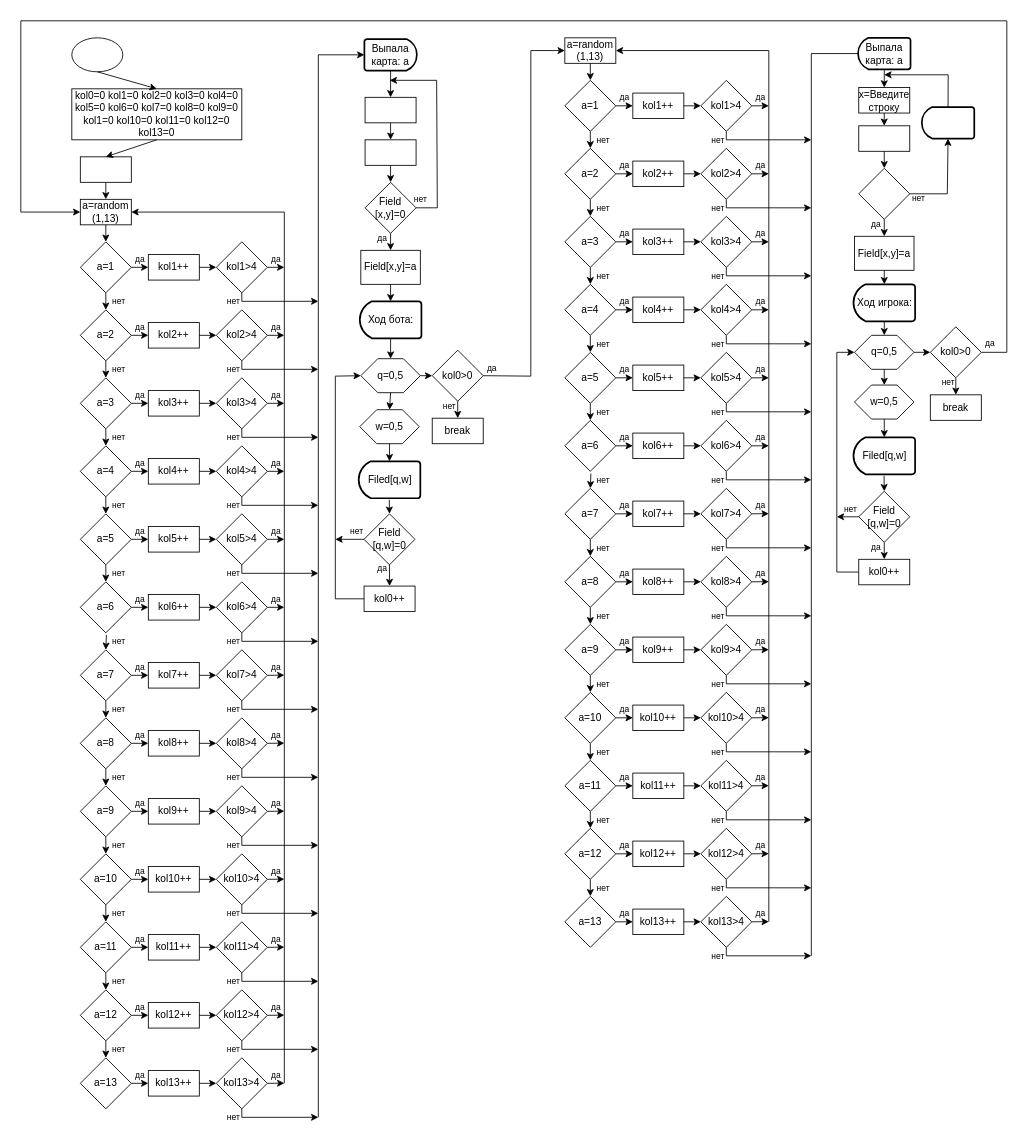
The diagram is 1029 pixels wide and 1141 high, and some of its shapes have lost their labels. The centre of each missing label's shape, as x and y in pixels:
[] Field (6,6): point (105, 169)
if Field [x,y]=0: point (884, 193)
x=random (0,5): point (390, 109)
y=random (0,5): point (390, 152)
y=Введите столбец: point (884, 138)
Клетка занята: point (948, 122)
начало: point (97, 54)
